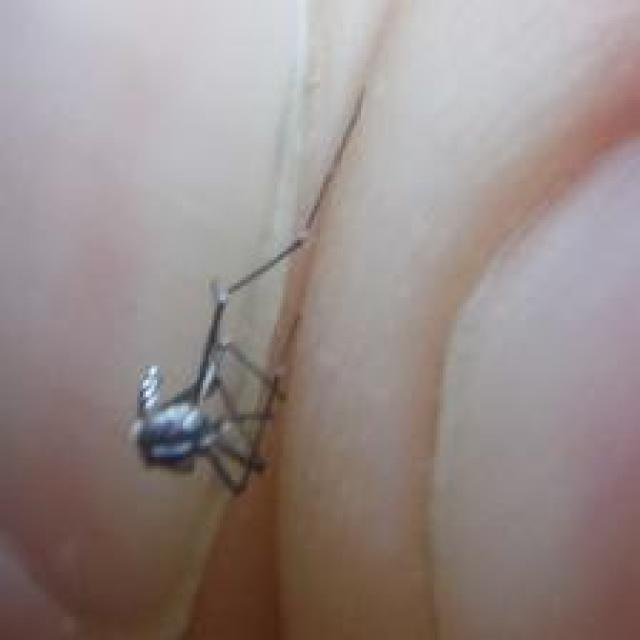Aedes albopictus: (125, 83, 368, 497)
